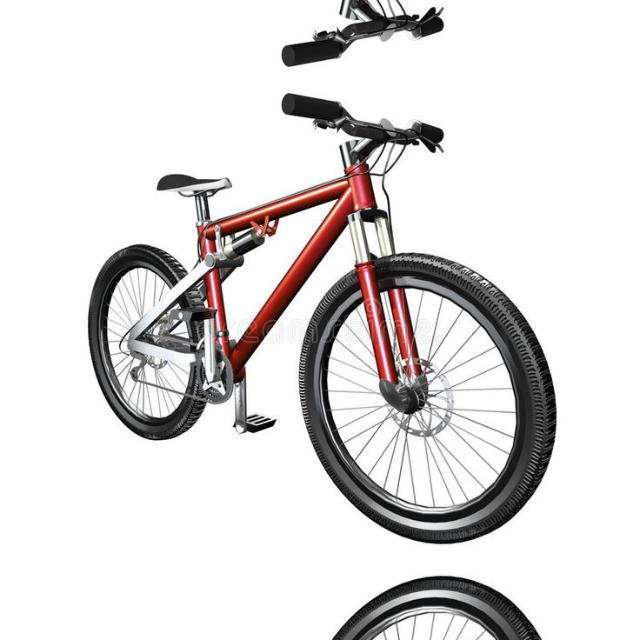obstacle: (65, 86, 565, 554), (65, 565, 565, 640), (65, 0, 565, 74)
